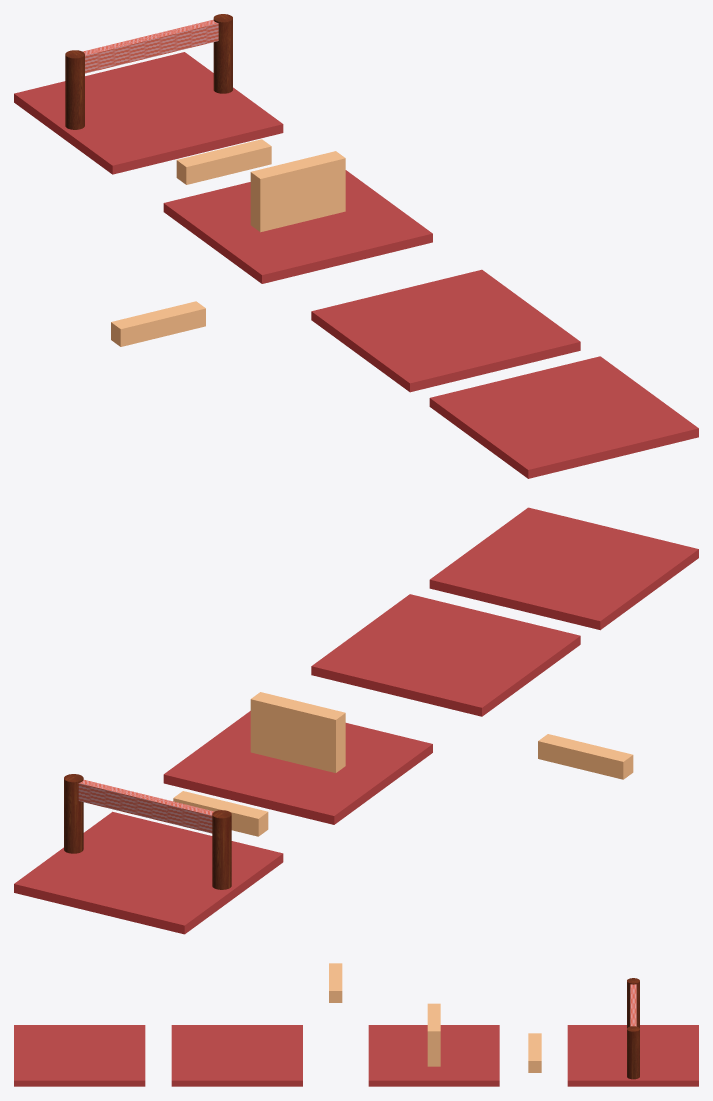
Rendered from first.fbx.
3 renders of one model, top to bottom at view 1: azimuth 30°, elevation 25°; view 2: azimuth 150°, elevation 25°; view 3: azimuth 270°, elevation 25°, orthographic. The views are drawn at different scales.
Parts seen in each view (by area): view 1: plane, plane__1_, plane__3_, plane__2_, Cube, block__1_, block3, block, block2, block_1, Cylinder, Cylinder__1_; view 2: plane, plane__1_, plane__3_, plane__2_, Cube, block3, block, block2, block_1, block__1_, Cylinder, Cylinder__1_; view 3: plane, plane__1_, plane__2_, plane__3_, Cylinder__1_, block3, block, block__1_, Cylinder, Cube.
Boxes of the visible parts, left/top/right/bottom form: plane: left=429, top=356, right=698, bottom=478; plane__1_: left=311, top=269, right=580, bottom=392; plane__3_: left=14, top=52, right=283, bottom=174; plane__2_: left=163, top=170, right=432, bottom=283; Cube: left=83, top=19, right=218, bottom=73; block__1_: left=176, top=139, right=271, bottom=184; block3: left=250, top=151, right=345, bottom=196; block: left=111, top=301, right=205, bottom=346; block2: left=250, top=176, right=345, bottom=214; block_1: left=250, top=194, right=345, bottom=232; Cylinder: left=65, top=50, right=84, bottom=129; Cylinder__1_: left=213, top=14, right=232, bottom=93; plane: left=429, top=507, right=698, bottom=630; plane__1_: left=311, top=594, right=580, bottom=716; plane__3_: left=14, top=811, right=283, bottom=934; plane__2_: left=163, top=711, right=432, bottom=824; Cube: left=78, top=779, right=214, bottom=833; block3: left=250, top=692, right=345, bottom=737; block: left=538, top=734, right=633, bottom=779; block2: left=250, top=717, right=345, bottom=755; block_1: left=250, top=735, right=345, bottom=772; block__1_: left=173, top=791, right=268, bottom=836; Cylinder: left=212, top=810, right=231, bottom=889; Cylinder__1_: left=64, top=774, right=83, bottom=853; plane: left=14, top=1025, right=145, bottom=1086; plane__1_: left=171, top=1025, right=302, bottom=1086; plane__2_: left=368, top=1025, right=499, bottom=1086; plane__3_: left=567, top=1025, right=698, bottom=1086; Cylinder__1_: left=627, top=1026, right=639, bottom=1079; block3: left=427, top=1003, right=440, bottom=1043; block: left=329, top=963, right=342, bottom=1002; block__1_: left=528, top=1033, right=541, bottom=1072; Cylinder: left=627, top=978, right=639, bottom=1027; Cube: left=630, top=984, right=636, bottom=1026.
Bounding box in the file's own units: 2001 × 455 × 5217.
